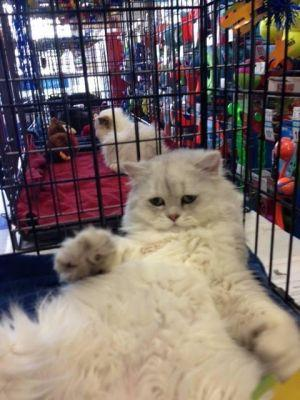persian: (113, 143, 234, 238)
